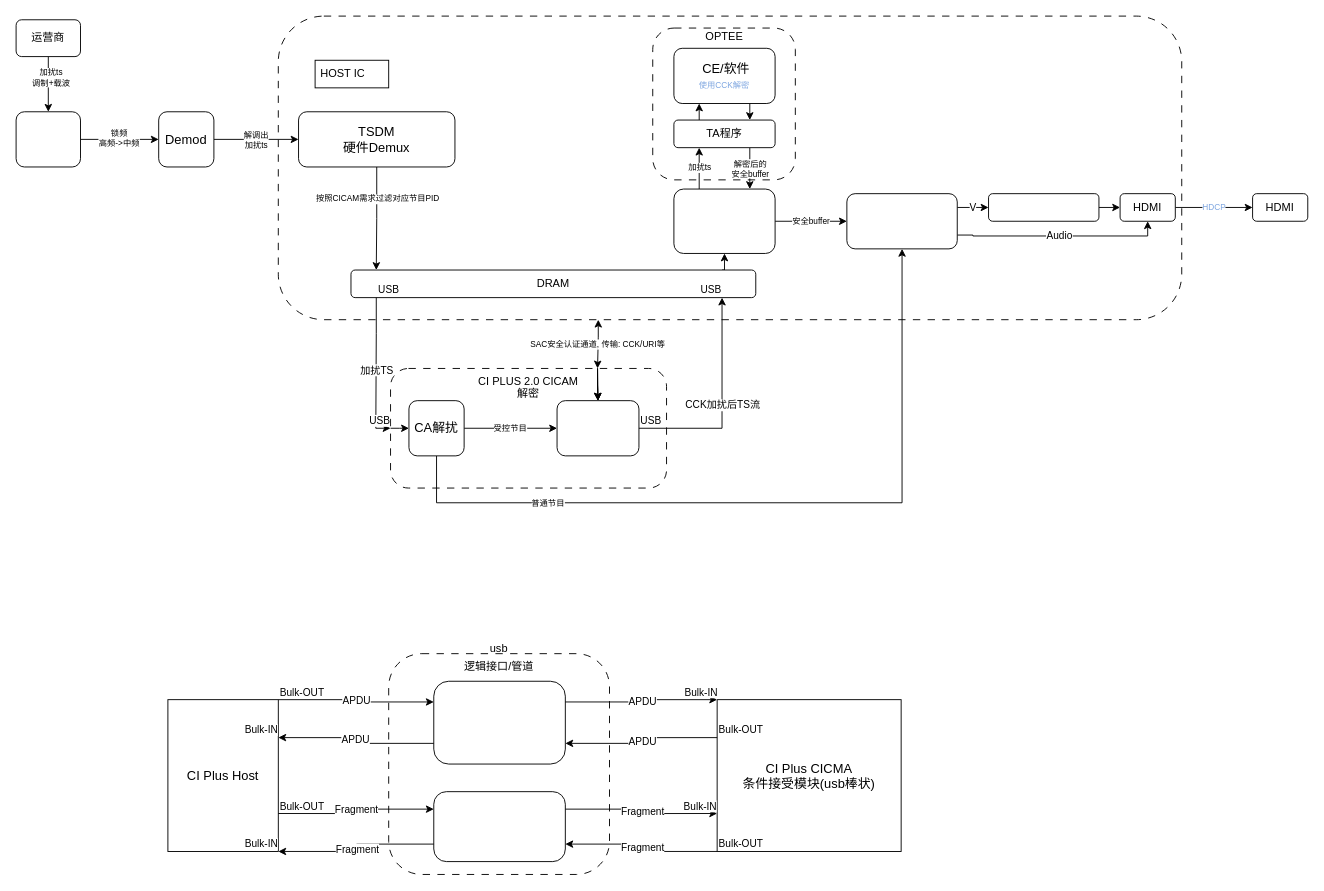
The diagram is 1324 pixels wide and 891 high, and some of its shapes have lost their labels. The centre of each missing label's shape, as x and y in pixels:
"CCK重加扰 AES-128-CBC 加扰" belongs at point 597,428.
"Command Interface 命令接口" belongs at point 499,722.
"DE" belongs at point 1043,207.
"Media Interface 媒体接口" belongs at point 499,826.
"Tun er" belongs at point 47,139.
"多媒体 安全通路" belongs at point 901,221.
"软件Demux 二次过滤 单节目流音视频分离 提取payload 通过CA调用TA解密" belongs at point 724,220.
